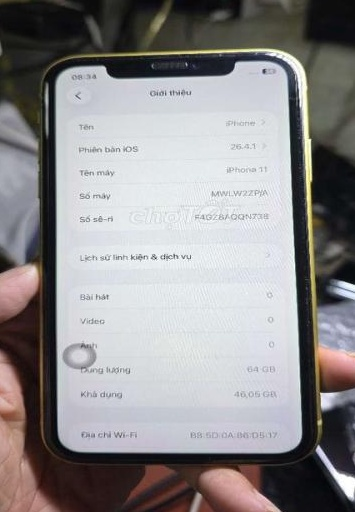scratch: (131, 47, 306, 68), (297, 199, 314, 335), (294, 112, 308, 185), (38, 77, 53, 140), (286, 70, 308, 109)
